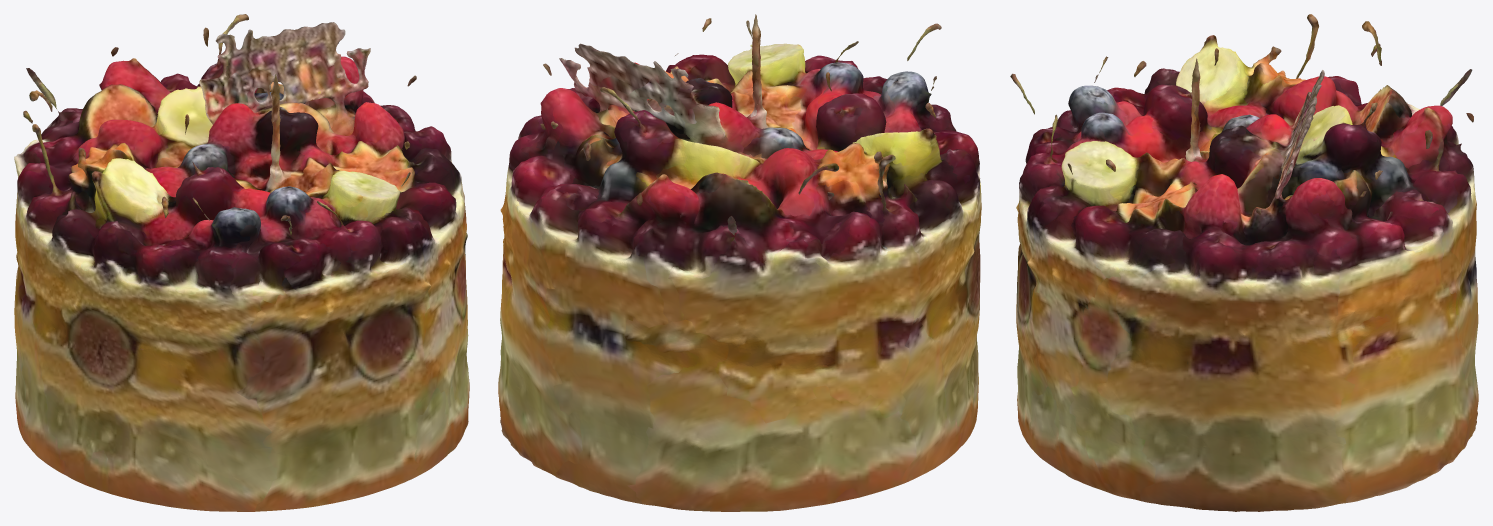
The model's file is 静物_水果_luxurious_fruit_cake_opt.glb.
The picture shows the model from 3 angles, left to right: view 1: azimuth 30°, elevation 25°; view 2: azimuth 150°, elevation 25°; view 3: azimuth 270°, elevation 25°; orthographic projection. The views are drawn at different scales.
Visible parts, largest first — view 1: mesh_main_0; view 2: mesh_main_0; view 3: mesh_main_0.
Boxes of the visible parts, left/top/right/bottom form: mesh_main_0: left=14, top=14, right=469, bottom=511; mesh_main_0: left=498, top=14, right=981, bottom=511; mesh_main_0: left=1010, top=14, right=1478, bottom=511.
Bounding box in the file's own units: 0.1993 × 0.1716 × 0.2012.
Materials: 1 (1 with a texture image).
